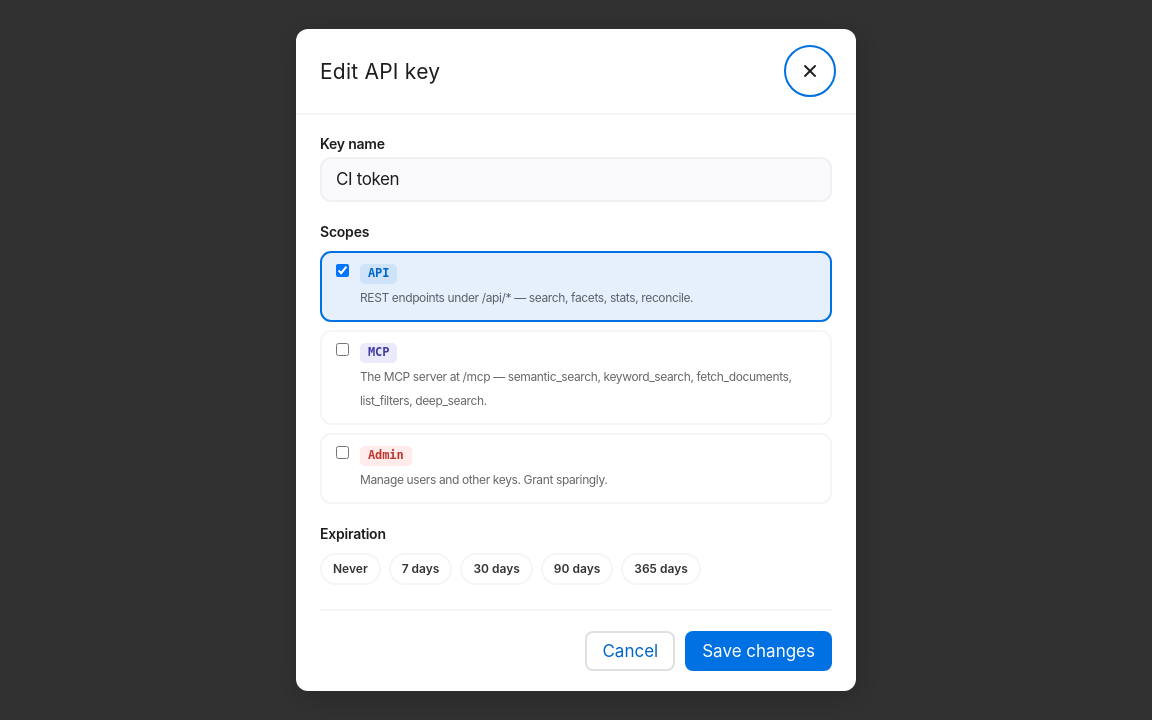
Test case: APIKeyEditPanel › rejects clearing the key name
The image size is (1152, 720).
Clear the field named "key name" at (576, 180), box [320,157,832,202]
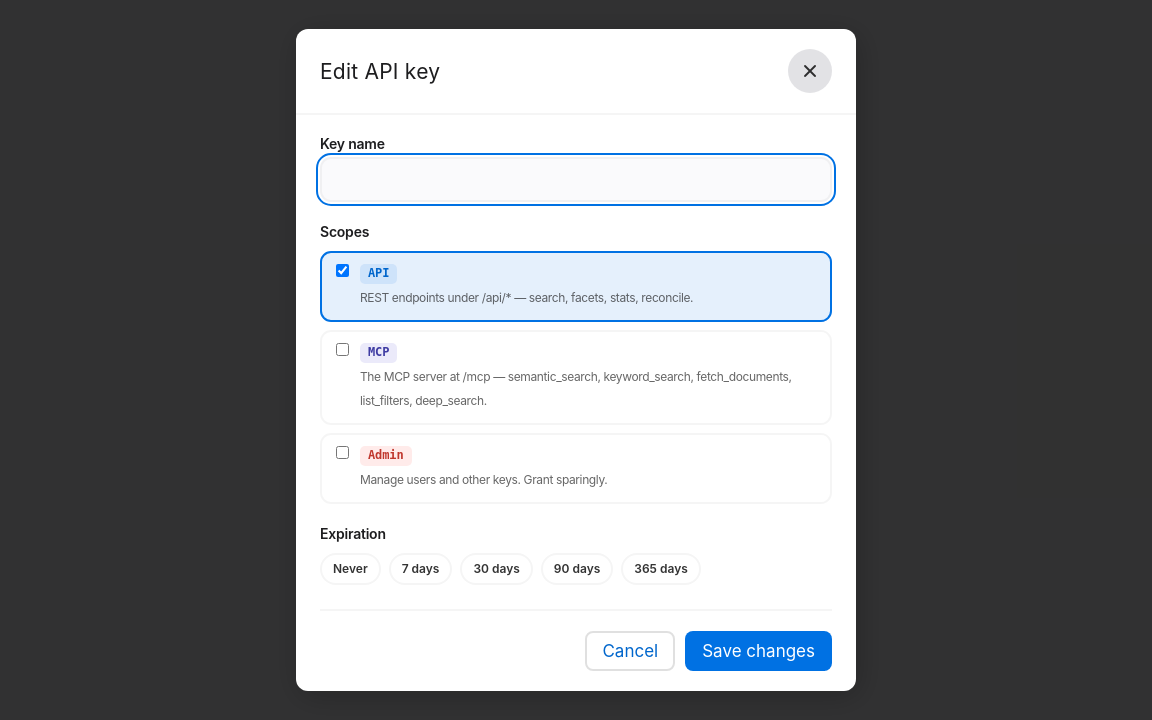
Click the 7th button named "save changes".
click(759, 651)  # box [685,631,832,671]
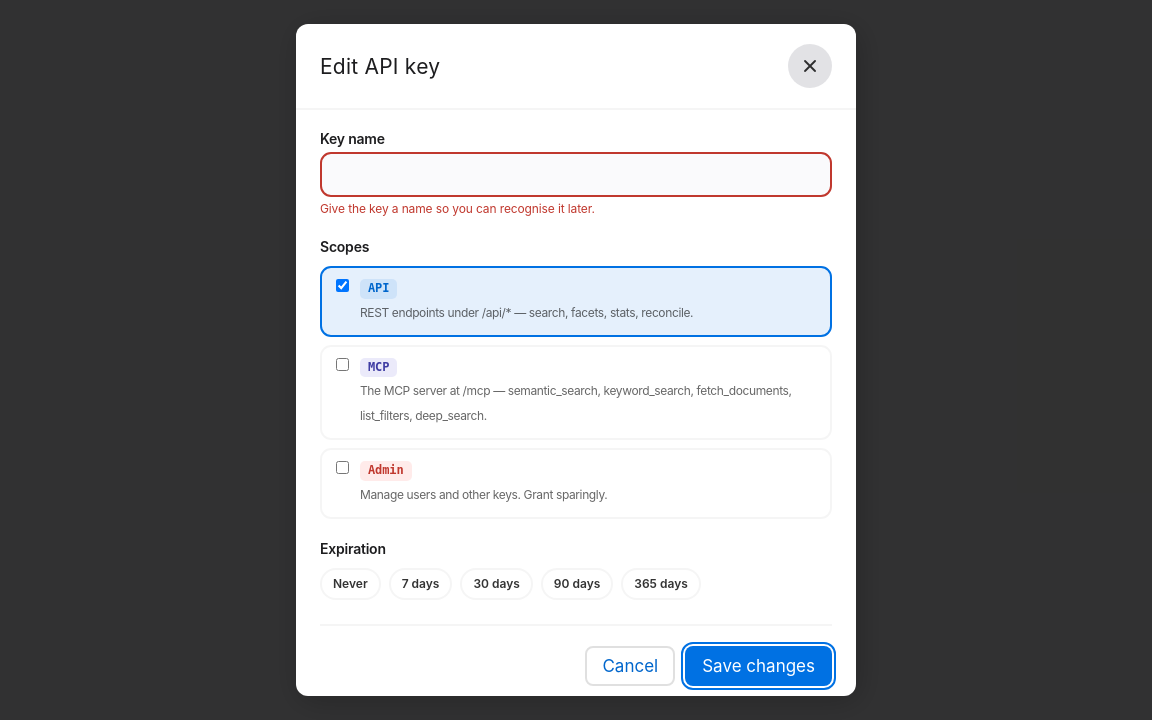
Now the text "give the key a name" is shown, box [320,201,595,216]
